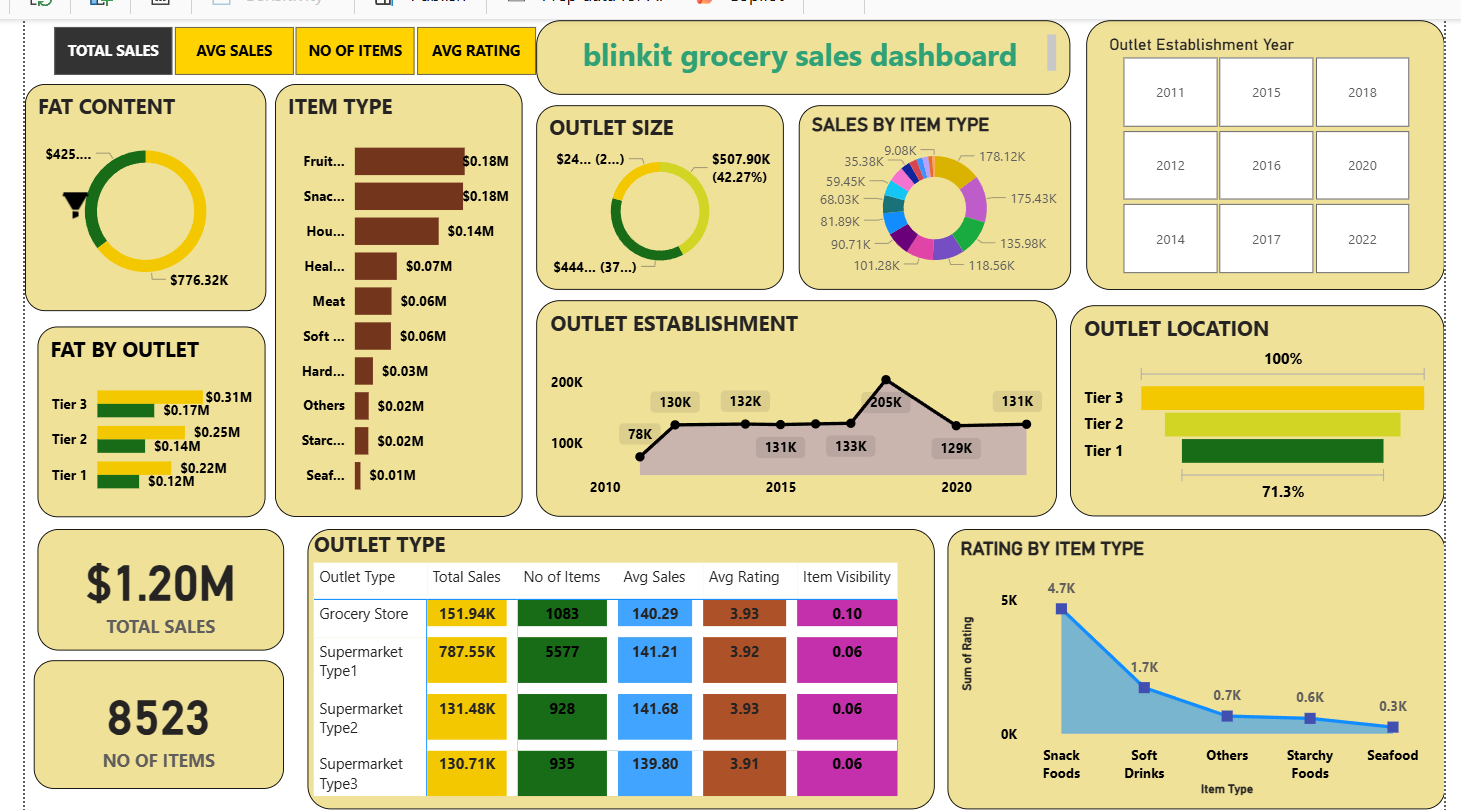

What the dashboard file says about the page in this screenshot:
{"tool":"powerbi","page":{"name":"Page 1","canvas":[1400,800],"ordinal":0},"visuals":[{"type":"cardVisual","fields":{"Data":["BlinkIT Grocery Data.Total Sales","BlinkIT Grocery Data.Avg Sales","BlinkIT Grocery Data.No of Items","BlinkIT Grocery Data.Avg Rating"]},"box":[23.1,544.8,481,255.4],"z":0},{"type":"shape","box":[0,14.9,554.4,529.9],"z":1000},{"type":"donutChart","title":"FAT CONTENT","fields":{"Y":["BlinkIT Grocery Data.Total Sales"],"Category":["BlinkIT Grocery Data.Item Fat Content"]},"box":[5.4,62.5,224.2,229.6],"z":2000},{"type":"slicer","fields":{"Values":["Metrics.Metrics"]},"box":[9.5,14.9,482.3,40.8],"z":3000},{"type":"cardVisual","fields":{"Data":["BlinkIT Grocery Data.Total Sales"]},"box":[322,434.1,131.7,74.8],"z":4000},{"type":"clusteredBarChart","title":"FAT BY OUTLET","fields":{"Y":["BlinkIT Grocery Data.Total Sales"],"Category":["BlinkIT Grocery Data.Outlet Location Type"],"Series":["BlinkIT Grocery Data.Item Fat Content"]},"box":[0,308.4,229.6,221.5],"z":5000},{"type":"shape","box":[261.8,544.7,219.5,37.4],"z":6000},{"type":"shape","box":[481.3,323.6,22.8,460.2],"z":7000},{"type":"barChart","title":"ITEM TYPES VS AVG SALES","fields":{"Y":["BlinkIT Grocery Data.Total Sales"],"Category":["BlinkIT Grocery Data.Item Type"]},"box":[241.8,62.5,290.8,467.4],"z":8000},{"type":"stackedAreaChart","title":"OUTLET  ESTABLISHMENT","fields":{"Category":["BlinkIT Grocery Data.Outlet Establishment Year"],"Y":["BlinkIT Grocery Data.Total Sales"]},"box":[860.1,323.4,516.3,240.5],"z":9000},{"type":"shape","box":[1366.9,270.4,4.1,36.7],"z":10000},{"type":"donutChart","title":"OUTLET SIZE","fields":{"Y":["BlinkIT Grocery Data.Total Sales"],"Category":["BlinkIT Grocery Data.Outlet Size"]},"box":[563.9,84.2,243.2,225.5],"z":11000},{"type":"funnel","title":"OUTLET LOCATION","fields":{"Y":["Sum(BlinkIT Grocery Data.Sales)"],"Category":["BlinkIT Grocery Data.Outlet Location Type"]},"box":[554.4,324.7,282.6,240.5],"z":12000},{"type":"shape","box":[806.5,535,559.3,37.4],"z":13000},{"type":"pivotTable","title":"OUTLET TYPE","fields":{"Rows":["BlinkIT Grocery Data.Outlet Type"],"Values":["BlinkIT Grocery Data.Total Sales","BlinkIT Grocery Data.No of Items","BlinkIT Grocery Data.Avg Sales","BlinkIT Grocery Data.Avg Rating","Sum(BlinkIT Grocery Data.Item Visibility)"]},"box":[504.1,582.9,614.1,210.6],"z":14000},{"type":"slicer","fields":{"Values":["BlinkIT Grocery Data.Outlet Establishment Year"]},"box":[819.3,82.9,298.9,225.5],"z":15000},{"type":"clusteredBarChart","fields":{"Category":["BlinkIT Grocery Data.Item Type"],"Y":["Sum(BlinkIT Grocery Data.Rating)"]},"box":[1134.5,84.2,232.3,214.7],"z":16000},{"type":"textbox","box":[554.4,0,816.6,62.5],"z":17000},{"type":"map","fields":{"Series":["BlinkIT Grocery Data.Outlet Location Type"],"Size":["BlinkIT Grocery Data.Avg Sales"]},"box":[1134.6,582.3,246.7,210.4],"z":18000}]}

Visuals, with their boxes on the page's 1400x800 design canvas (x1, y1, x2, y2). These are canvas units, not pixel positions in the 1461x810 screenshot, which may show the page scaled, cropped or inside an application window:
cardVisual - BlinkIT Grocery Data.Total Sales x BlinkIT Grocery Data.Avg Sales: 23/545/504/800
shape: 0/15/554/545
"FAT CONTENT" donutChart: 5/62/230/292
slicer - Metrics.Metrics: 10/15/492/56
cardVisual - BlinkIT Grocery Data.Total Sales: 322/434/454/509
"FAT BY OUTLET" clusteredBarChart: 0/308/230/530
shape: 262/545/481/582
shape: 481/324/504/784
"ITEM TYPES VS AVG SALES" barChart: 242/62/533/530
"OUTLET  ESTABLISHMENT" stackedAreaChart: 860/323/1376/564
shape: 1367/270/1371/307
"OUTLET SIZE" donutChart: 564/84/807/310
"OUTLET LOCATION" funnel: 554/325/837/565
shape: 806/535/1366/572
"OUTLET TYPE" pivotTable: 504/583/1118/794
slicer - BlinkIT Grocery Data.Outlet Establishment Year: 819/83/1118/308
clusteredBarChart - BlinkIT Grocery Data.Item Type x Sum(BlinkIT Grocery Data.Rating): 1134/84/1367/299
textbox: 554/0/1371/62
map - BlinkIT Grocery Data.Outlet Location Type x BlinkIT Grocery Data.Avg Sales: 1135/582/1381/793
